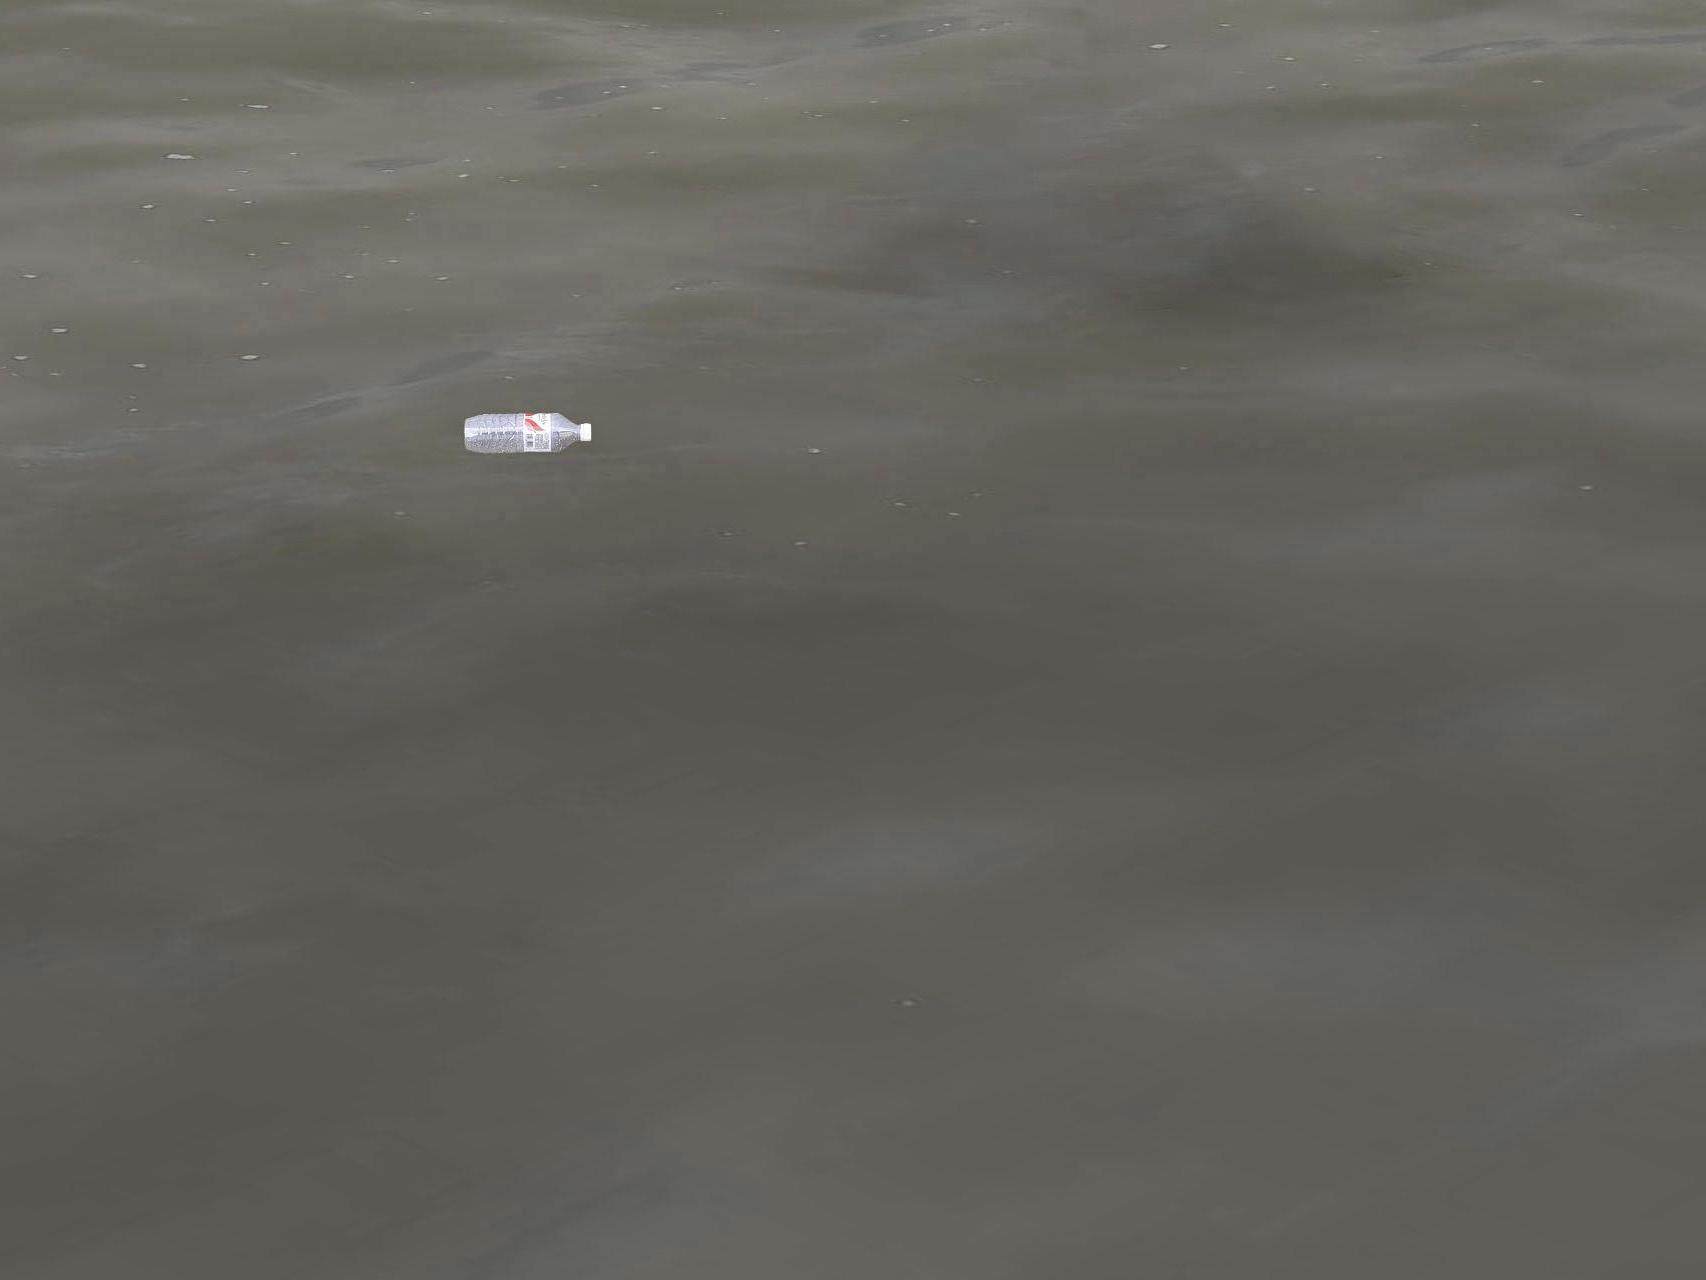Plastic: (462, 411, 597, 457)
